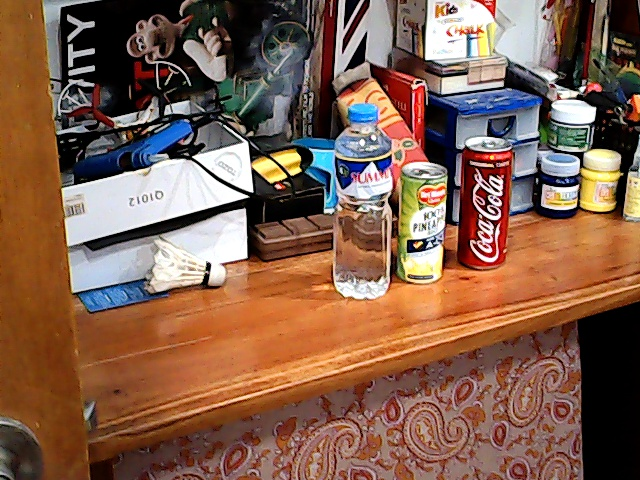Cola: (450, 124, 525, 275)
Pine Juice: (390, 150, 451, 290)
Summit Water: (324, 100, 394, 304)
